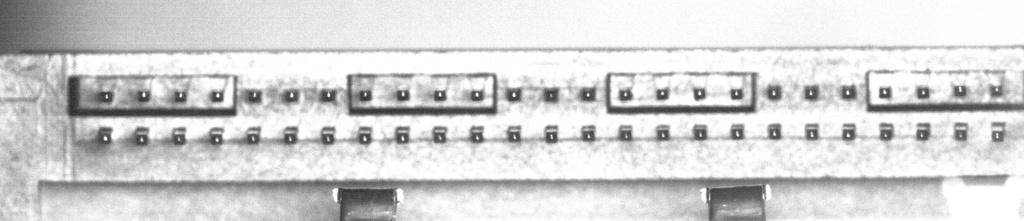pin_ok: (992, 121, 1007, 141), (171, 127, 187, 145), (320, 126, 336, 144), (953, 122, 969, 140), (134, 126, 149, 145), (97, 126, 113, 143), (246, 126, 261, 144), (432, 125, 447, 143), (879, 122, 894, 140), (209, 127, 224, 144), (283, 126, 298, 143), (245, 88, 262, 103), (395, 126, 410, 143), (470, 125, 485, 142), (319, 88, 337, 102), (842, 122, 856, 140), (766, 85, 782, 100), (580, 86, 596, 101), (693, 124, 708, 140), (581, 125, 596, 141), (358, 127, 372, 144), (282, 88, 299, 102), (544, 125, 558, 142), (805, 123, 819, 140), (804, 85, 819, 100), (618, 124, 632, 140), (768, 123, 782, 139), (506, 87, 522, 101), (507, 125, 521, 141), (543, 87, 559, 101), (656, 124, 670, 140), (841, 85, 856, 99), (730, 124, 744, 139), (916, 126, 930, 141), (988, 83, 1003, 97), (916, 85, 930, 99), (953, 84, 968, 97), (173, 89, 187, 102), (396, 88, 410, 101), (470, 88, 484, 101), (618, 88, 632, 101), (730, 87, 744, 100), (98, 90, 113, 102), (211, 89, 224, 102), (878, 86, 891, 99), (656, 87, 669, 100), (693, 87, 706, 100), (358, 89, 372, 101), (433, 89, 447, 101), (138, 89, 150, 101)
